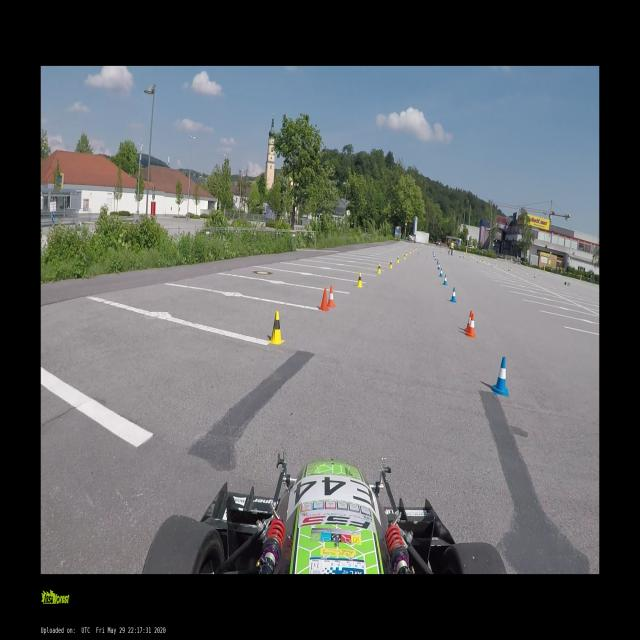blue_cone: (493, 357, 509, 396), (450, 287, 456, 303), (443, 275, 447, 285), (440, 268, 443, 277), (438, 262, 440, 270), (435, 256, 437, 260), (437, 258, 438, 264), (434, 254, 434, 258)
orange_cone: (466, 313, 476, 338), (319, 287, 329, 312), (465, 310, 474, 333), (327, 286, 335, 308)
yellow_cone: (268, 310, 284, 346), (357, 272, 362, 286), (377, 263, 381, 273), (389, 260, 393, 268), (397, 255, 399, 262), (404, 253, 406, 259), (406, 250, 408, 256), (409, 250, 411, 254), (413, 248, 414, 252)
